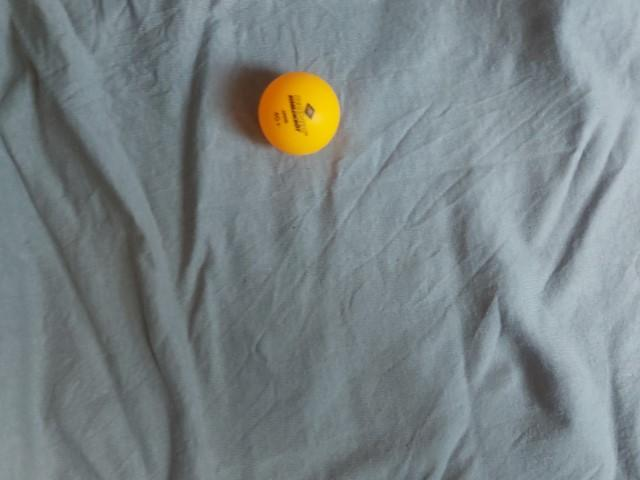oball: (249, 66, 347, 161)
